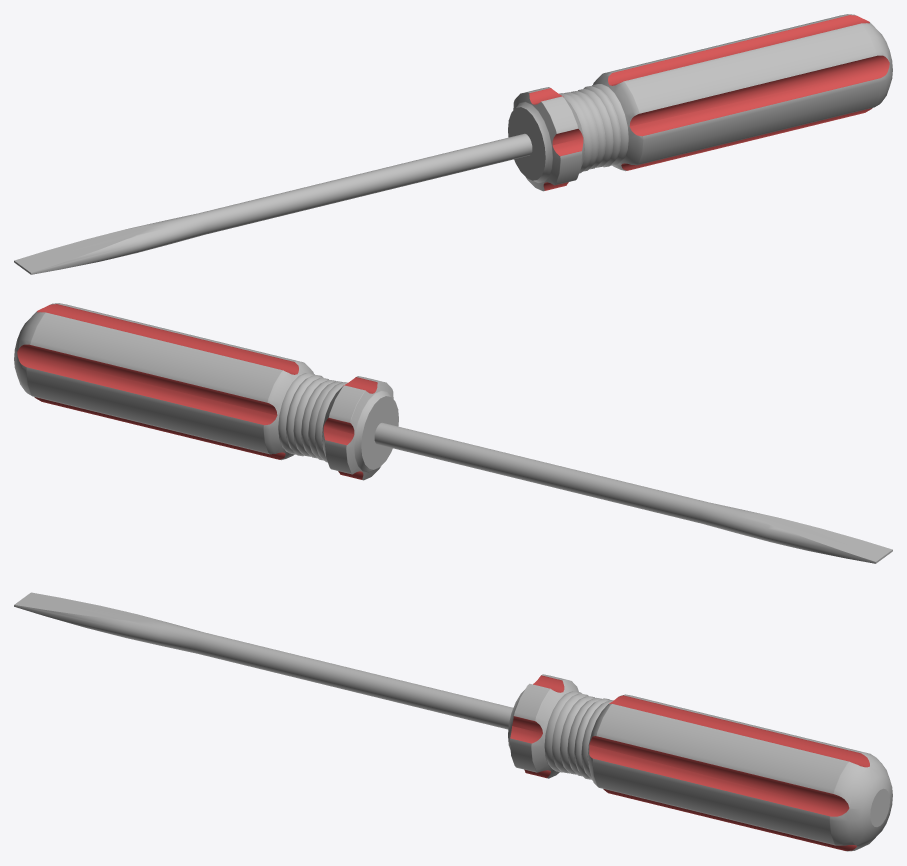
Rendered from screwdriverFBX.fbx.
3 renders of one model, top to bottom at view 1: azimuth 30°, elevation 25°; view 2: azimuth 150°, elevation 25°; view 3: azimuth 330°, elevation 25°, orthographic.
Parts seen in each view (by area): view 1: pCylinder10, pCylinder13; view 2: pCylinder10, pCylinder13; view 3: pCylinder10, pCylinder13.
Part boxes in pixels (box(x1,y1,x2,y2)): pCylinder10: box(508, 14, 892, 191); pCylinder13: box(14, 133, 532, 274); pCylinder10: box(14, 303, 398, 480); pCylinder13: box(374, 422, 892, 563); pCylinder10: box(508, 674, 892, 851); pCylinder13: box(14, 592, 513, 729).
Bounding box in the file's own units: 11.44 × 1.15 × 1.17.
